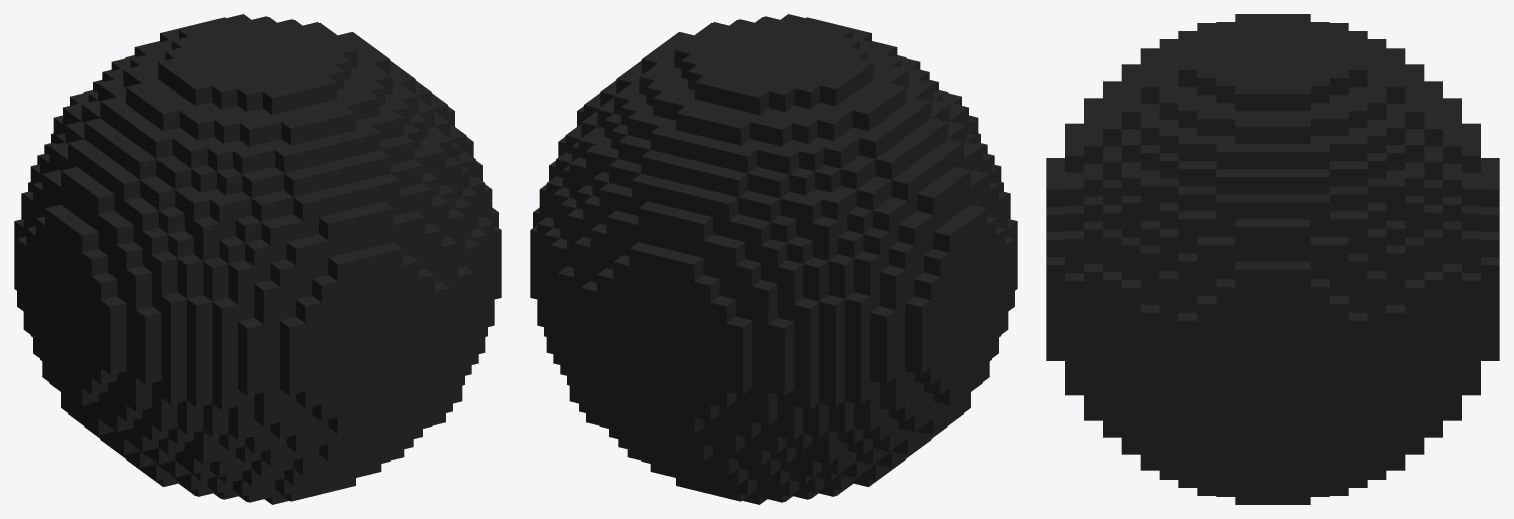
File: blackhole.dae
The picture shows the model from 3 angles, left to right: view 1: azimuth 30°, elevation 25°; view 2: azimuth 150°, elevation 25°; view 3: azimuth 270°, elevation 25°; orthographic projection.
Visible parts, largest first — view 1: Sphere_1; view 2: Sphere_1; view 3: Sphere_1.
Boxes of the visible parts, bbox=[...] form: Sphere_1: bbox=[14, 14, 501, 504]; Sphere_1: bbox=[530, 14, 1017, 504]; Sphere_1: bbox=[1046, 14, 1499, 504].
Bounding box in the file's own units: 24 × 24 × 24.
